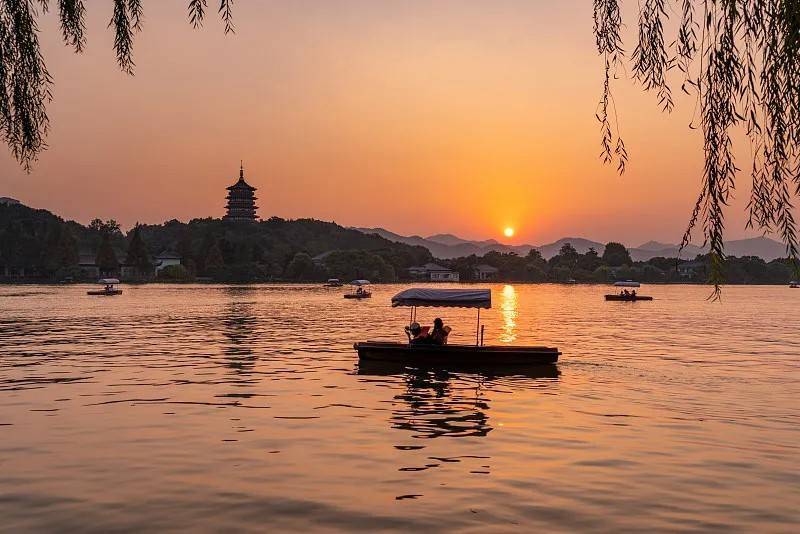Leifeng: (222, 160, 260, 220)
